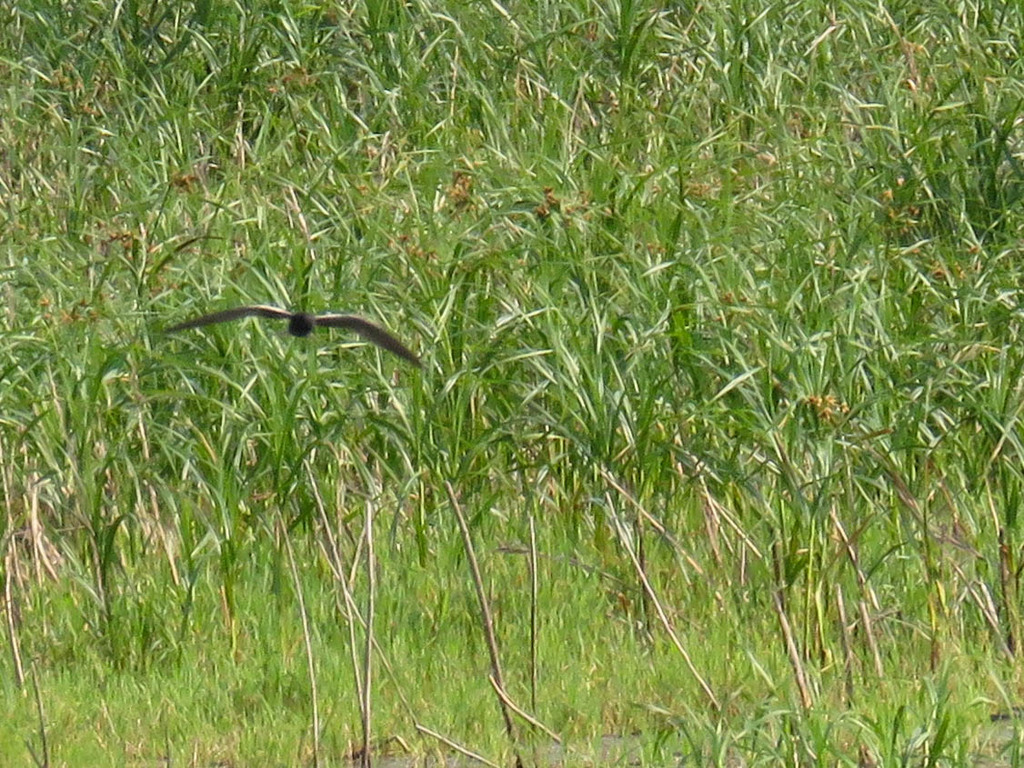Animal: (164, 302, 422, 368)
